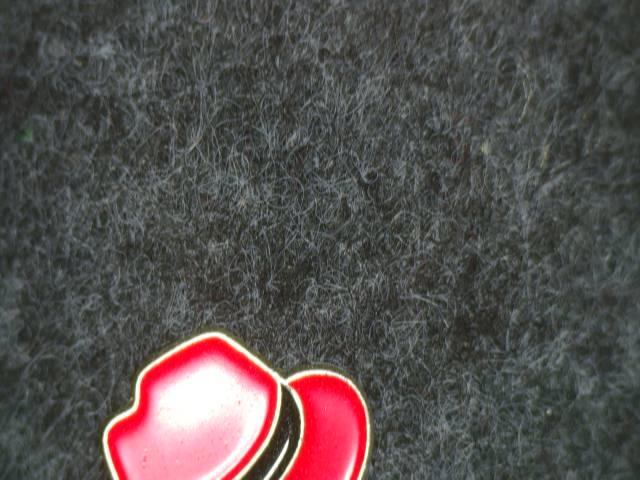Red-Hat: (71, 317, 406, 480)
